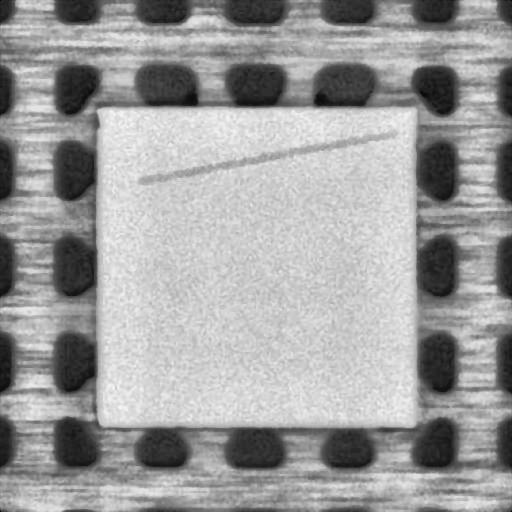DIE_CRACK: (140, 132, 396, 180)
